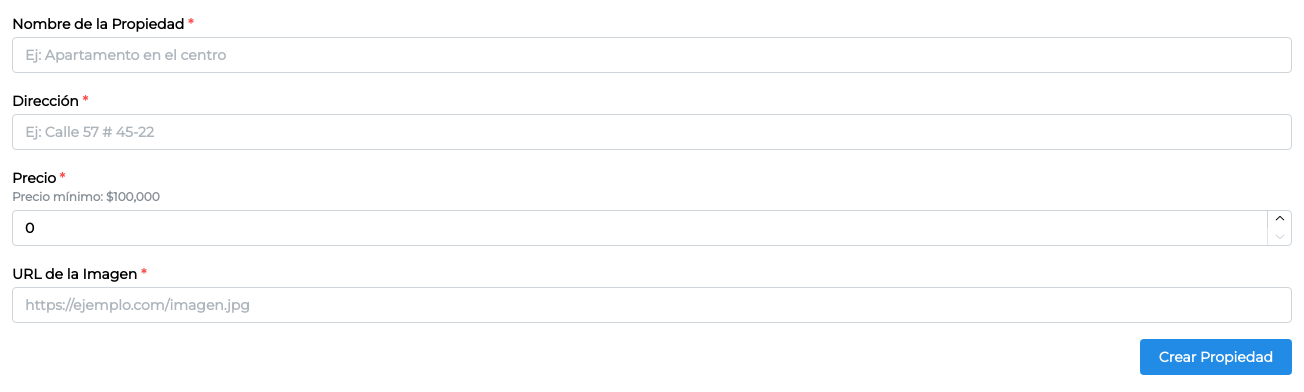
it: PropertyForm › Debe mostrar la descripción del precio formateada
The width and height of the screenshot is (1304, 392).
Replace the text in the field labelled "Precio *" with "500000000" at (652, 228), box [12,210,1292,246]
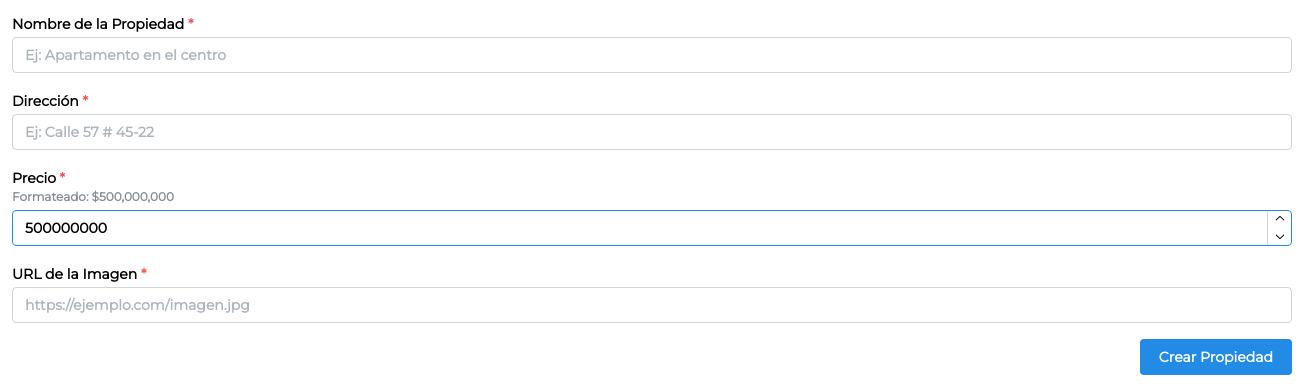
Check: the text "Formateado: $500,000,000" is shown, box [12,189,174,204]
